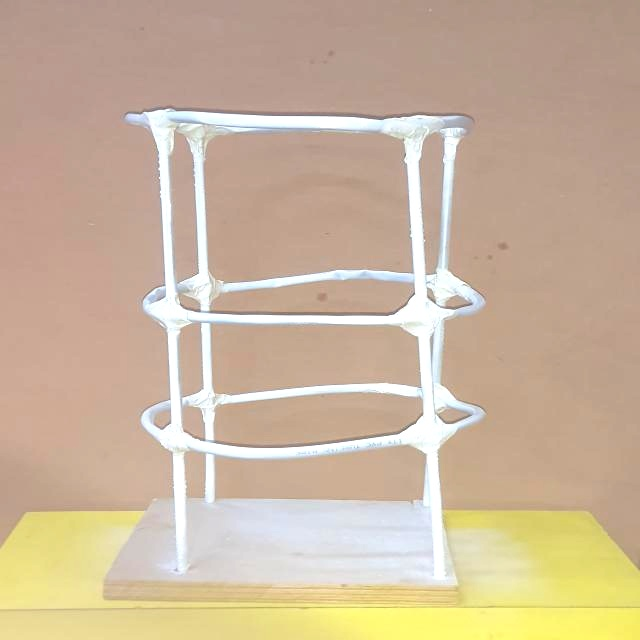silo: (130, 108, 478, 595)
